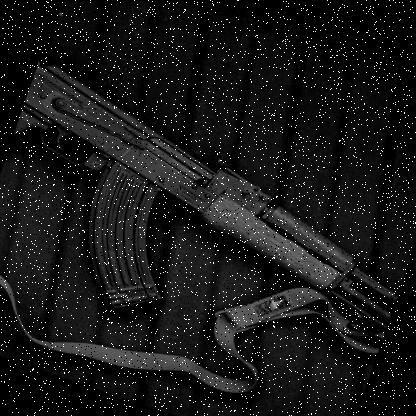rifle: (0, 42, 416, 393)
